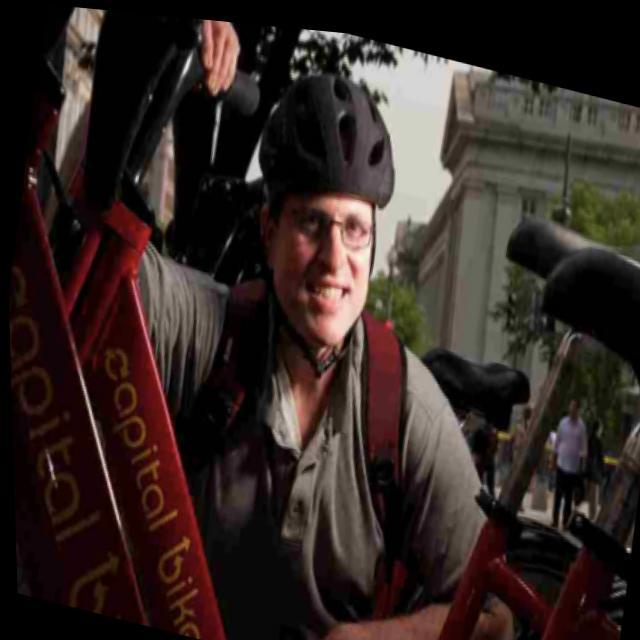Helmet: (253, 70, 398, 346)
